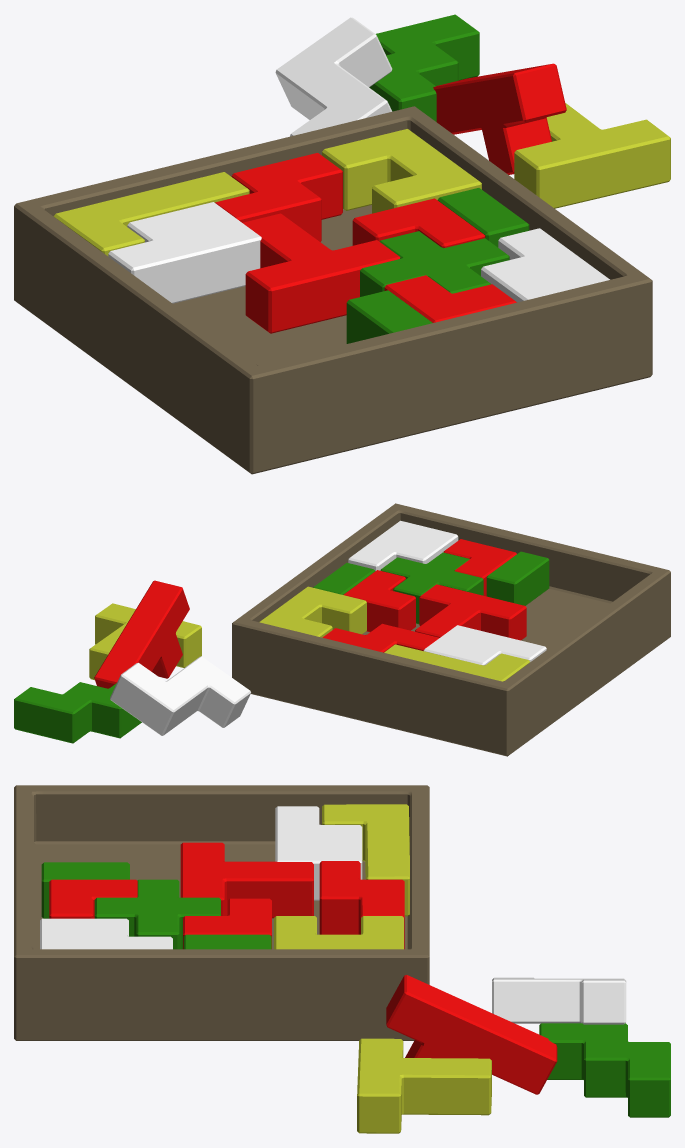
File: puzzle.glb
3 renders of one model, top to bottom at view 1: azimuth 30°, elevation 25°; view 2: azimuth 150°, elevation 25°; view 3: azimuth 270°, elevation 25°, orthographic. The views are drawn at different scales.
Parts seen in each view (by area): view 1: pCube1, pCube12, pCube7, pCube6, pCube5, pCube8, pCube2, pCube9, pCube13, pCube4, pCube3, pCube14 (+4 smaller); view 2: pCube1, pCube8, pCube5, pCube9, pCube7, pCube2, pCube14, pCube3, pCube6, pCube16, pCube12, pCube11 (+4 smaller); view 3: pCube1, pCube5, pCube12, pCube9, pCube7, pCube8, pCube13, pCube4, pCube3, pCube6, pCube2, pCube14 (+4 smaller).
Part boxes in pixels (x1,y1,x2,y2): pCube1: (14,106,652,474); pCube12: (514,103,670,208); pCube7: (242,213,400,333); pCube6: (108,202,261,303); pCube5: (433,63,566,174); pCube8: (275,17,392,136); pCube2: (322,129,481,213); pCube9: (369,14,479,121); pCube13: (215,153,342,241); pCube4: (53,172,249,256); pCube3: (360,231,509,296); pCube14: (481,228,609,302); pCube1: (232,503,670,756); pCube8: (110,656,250,735); pCube5: (94,580,189,688); pCube9: (14,682,141,743); pCube7: (415,584,526,640); pCube2: (259,586,366,637); pCube14: (348,520,458,570); pCube3: (380,552,483,624); pCube6: (423,625,546,665); pCube16: (343,570,415,632); pCube12: (89,603,201,680); pCube11: (486,551,549,605); pCube1: (14,785,429,1040); pCube5: (386,975,557,1094); pCube12: (357,1038,491,1133); pCube9: (539,1023,670,1117); pCube7: (180,842,313,918); pCube8: (492,977,626,1024); pCube13: (319,861,404,949); pCube4: (322,804,409,916); pCube3: (94,879,220,949); pCube6: (275,806,362,900); pCube2: (274,916,403,949); pCube14: (40,918,172,949).
Size of the model in its own units: 14.16 by 2.62 by 14.92.
